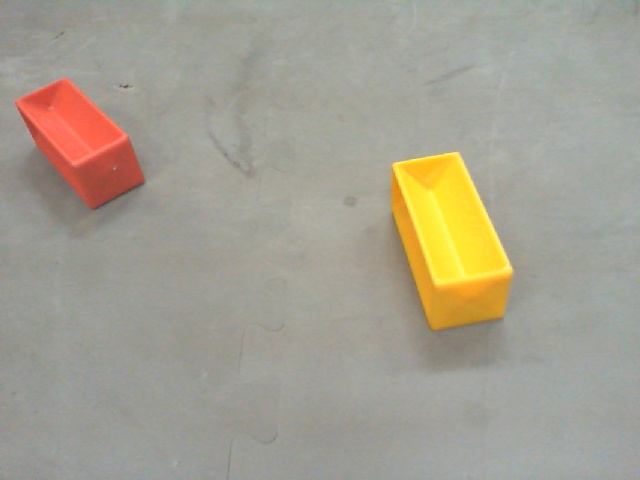RedSample: (14, 77, 148, 212)
YellowSample: (385, 145, 518, 335)
